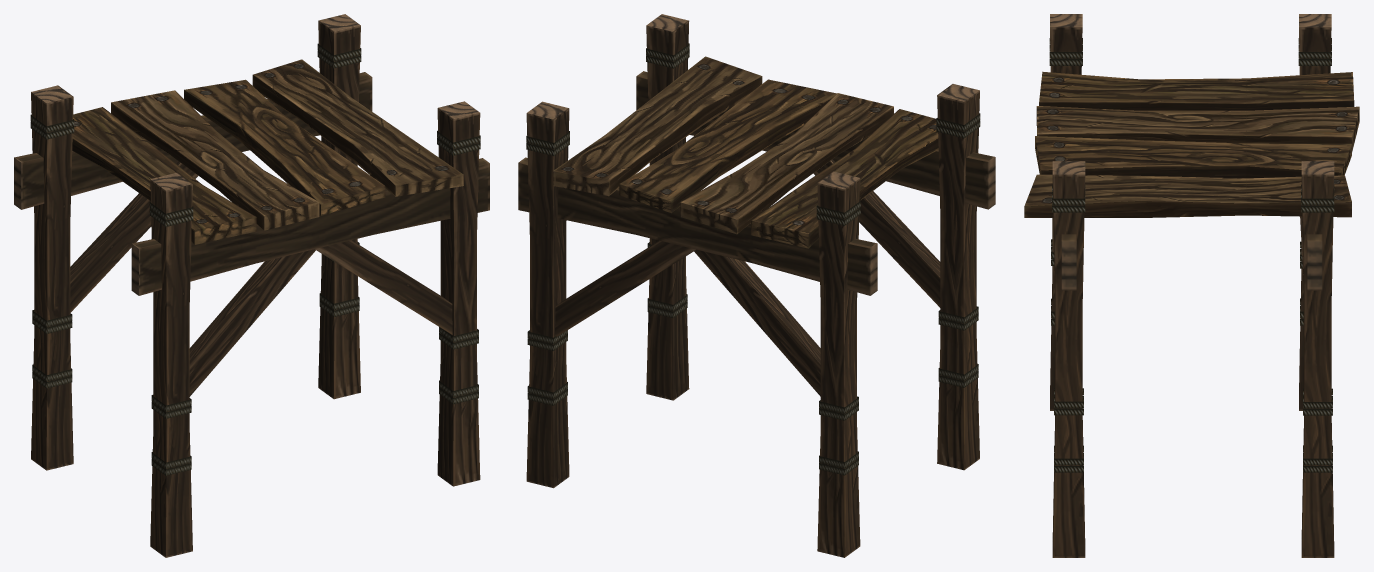
Rendered from scaffolding_03.fbx.
3 views of the same model, side by side, from view 1: azimuth 30°, elevation 25°; view 2: azimuth 150°, elevation 25°; view 3: azimuth 270°, elevation 25° (orthographic). The views are drawn at different scales.
Parts seen in each view (by area): view 1: scaffolding_03; view 2: scaffolding_03; view 3: scaffolding_03.
Part boxes in pixels (x1=…): scaffolding_03: x1=14, y1=14, x2=489, y2=557; scaffolding_03: x1=518, y1=14, x2=995, y2=557; scaffolding_03: x1=1024, y1=14, x2=1359, y2=557.
Size of the model in its own units: 400 by 400 by 317.
